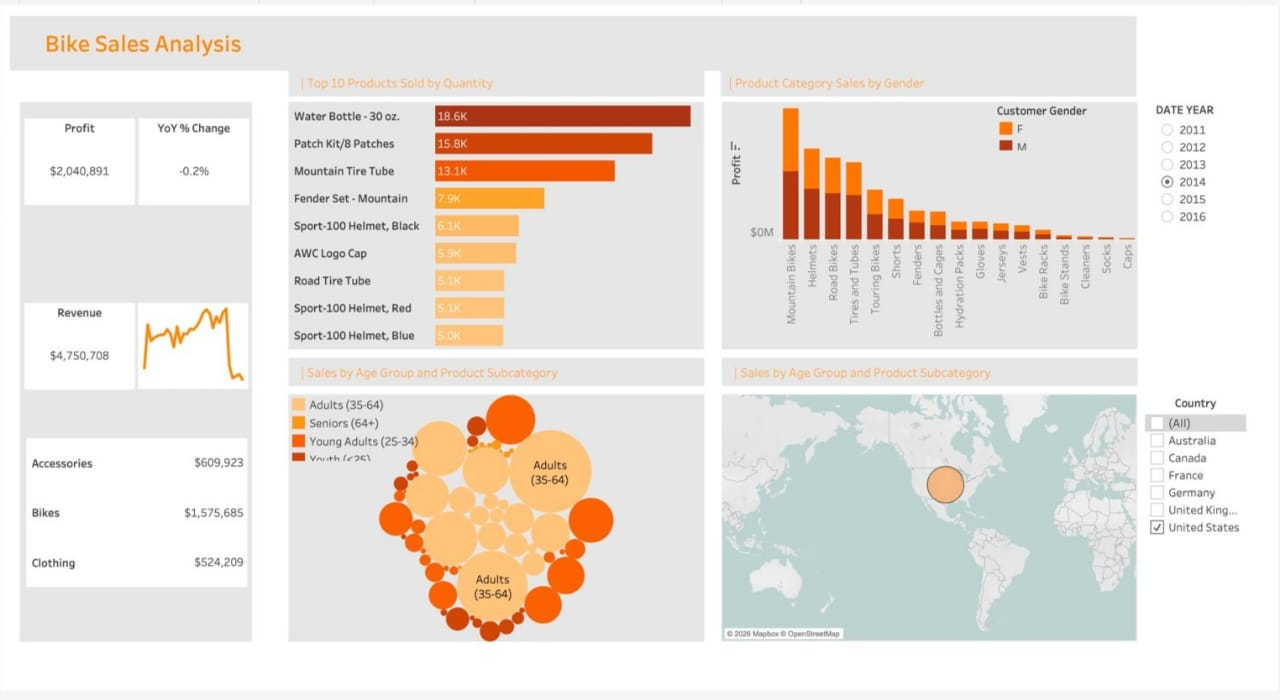

Layout of this report page (visuals, bound fields, positions):
{"tool":"tableau","page":{"name":"Sales Dashboard","canvas":[1400,750],"ordinal":0},"visuals":[{"type":"title","box":[8,8,1241,68]},{"type":"text","box":[317.3,68.7,455.3,31.6]},{"type":"text","box":[789.6,68.7,455.3,31.6]},{"type":"worksheet","title":"Top 10 Products","mark":"Bar","rows":["Product"],"box":[317.3,105.7,455.3,271.1]},{"type":"worksheet","title":"Sub Category Bar Chart ","mark":"Automatic","rows":["Profit"],"cols":["Sub_Category"],"box":[790.6,105.7,455.3,271.1]},{"type":"parameter","param":"[Parameters].[Parameter 1]","box":[1266,105.7,120.9,190.7]},{"type":"legend","title":"Sub Category Bar Chart ","param":"[federated.1uhaebu05e61gt1ad8c5h1yjvo3l].[none:Customer_Gender:nk]","box":[1091.8,106.6,140,52.4]},{"type":"worksheet","title":"Profit Card","mark":"Automatic","cols":["Calculation_0452956817235969"],"box":[28.2,123.8,120.9,94.9]},{"type":"worksheet","title":"YoY %change","mark":"Automatic","cols":["Calculation_0452956822155273"],"box":[153.1,123.8,120.9,94.9]},{"type":"worksheet","title":"Revenue Card","mark":"Automatic","cols":["Calculation_0452956823531530"],"box":[28.2,326.2,120.9,94.9]},{"type":"worksheet","title":"Revenue Line Chart","mark":"Automatic","rows":["Revenue"],"cols":["Date"],"box":[152.1,326.2,120.9,94.9]},{"type":"text","box":[317.3,385.8,455.3,31.6]},{"type":"text","box":[790.6,385.8,455.3,31.6]},{"type":"worksheet","title":"Age Group Bubble Chart","mark":"Circle","box":[317.3,425.6,455.3,271.1]},{"type":"worksheet","title":"Map","mark":"Automatic","box":[790.6,425.6,455.3,271.1]},{"type":"legend","title":"Age Group Bubble Chart","param":"[federated.1uhaebu05e61gt1ad8c5h1yjvo3l].[none:Age_Group:nk]","box":[318.3,426.5,168.2,72.3]},{"type":"filter","title":"Age Group Bubble Chart","param":"[federated.1uhaebu05e61gt1ad8c5h1yjvo3l].[none:Country:nk]","box":[1254,426.5,110.8,164.5]},{"type":"worksheet","title":"Cost Card","mark":"Automatic","rows":["Product_Category"],"box":[30.2,474.4,241.7,162.7]}]}

Visuals, with their boxes in screenshot pixels (x1, y1, x2, y2), scaled from the page's 1400x750 canvas onto the 1280x700 screenshot:
title: Rect(7, 7, 1142, 71)
text: Rect(290, 64, 706, 94)
text: Rect(722, 64, 1138, 94)
"Top 10 Products" worksheet (Bar marks): Rect(290, 99, 706, 352)
"Sub Category Bar Chart " worksheet: Rect(723, 99, 1139, 352)
parameter: Rect(1157, 99, 1268, 277)
"Sub Category Bar Chart " legend: Rect(998, 99, 1126, 148)
"Profit Card" worksheet: Rect(26, 116, 136, 204)
"YoY %change" worksheet: Rect(140, 116, 251, 204)
"Revenue Card" worksheet: Rect(26, 304, 136, 393)
"Revenue Line Chart" worksheet: Rect(139, 304, 250, 393)
text: Rect(290, 360, 706, 390)
text: Rect(723, 360, 1139, 390)
"Age Group Bubble Chart" worksheet (Circle marks): Rect(290, 397, 706, 650)
"Map" worksheet: Rect(723, 397, 1139, 650)
"Age Group Bubble Chart" legend: Rect(291, 398, 445, 466)
"Age Group Bubble Chart" filter: Rect(1147, 398, 1248, 552)
"Cost Card" worksheet: Rect(28, 443, 249, 595)
